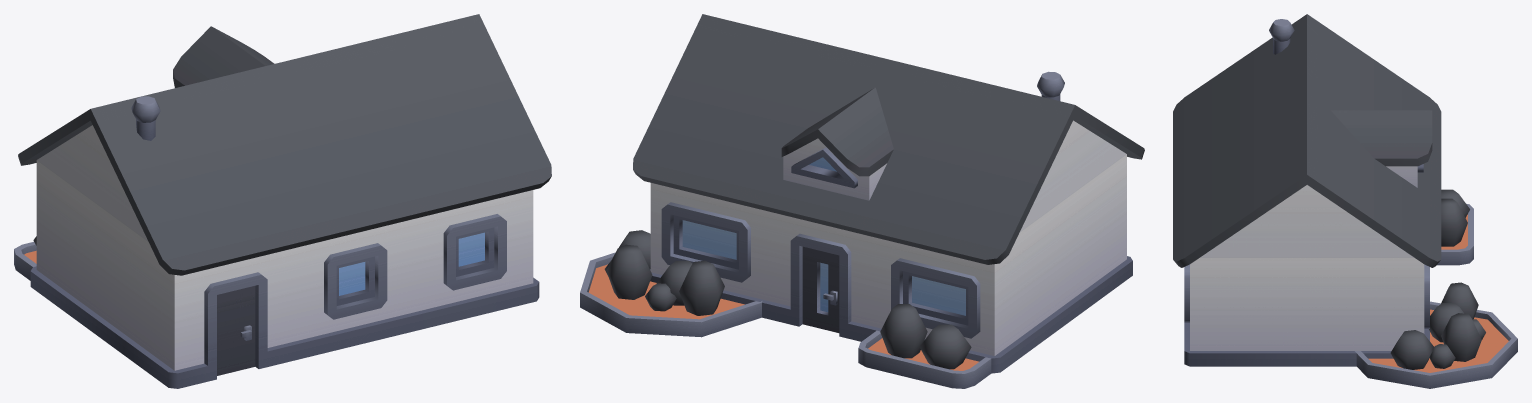
File: farmhouse_g.glb
3 renders of one model, left to right at view 1: azimuth 30°, elevation 25°; view 2: azimuth 150°, elevation 25°; view 3: azimuth 270°, elevation 25°, orthographic. The views are drawn at different scales.
Parts seen in each view (by area): view 1: building-type-g; view 2: building-type-g; view 3: building-type-g.
Boxes of the visible parts, box(x1,y1,x2,y2) form: building-type-g: box(14, 14, 551, 388); building-type-g: box(580, 14, 1144, 388); building-type-g: box(1173, 14, 1517, 388).
Bounding box in the file's own units: 1.45 × 0.7682 × 1.18.
Materials: 1 (1 with a texture image).
